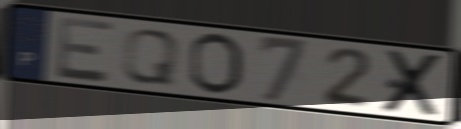2: (322, 46, 374, 109)
7: (256, 33, 311, 105)
E: (54, 14, 118, 85)
O: (186, 31, 246, 97)
Q: (119, 27, 183, 88)
X: (378, 48, 447, 119)
